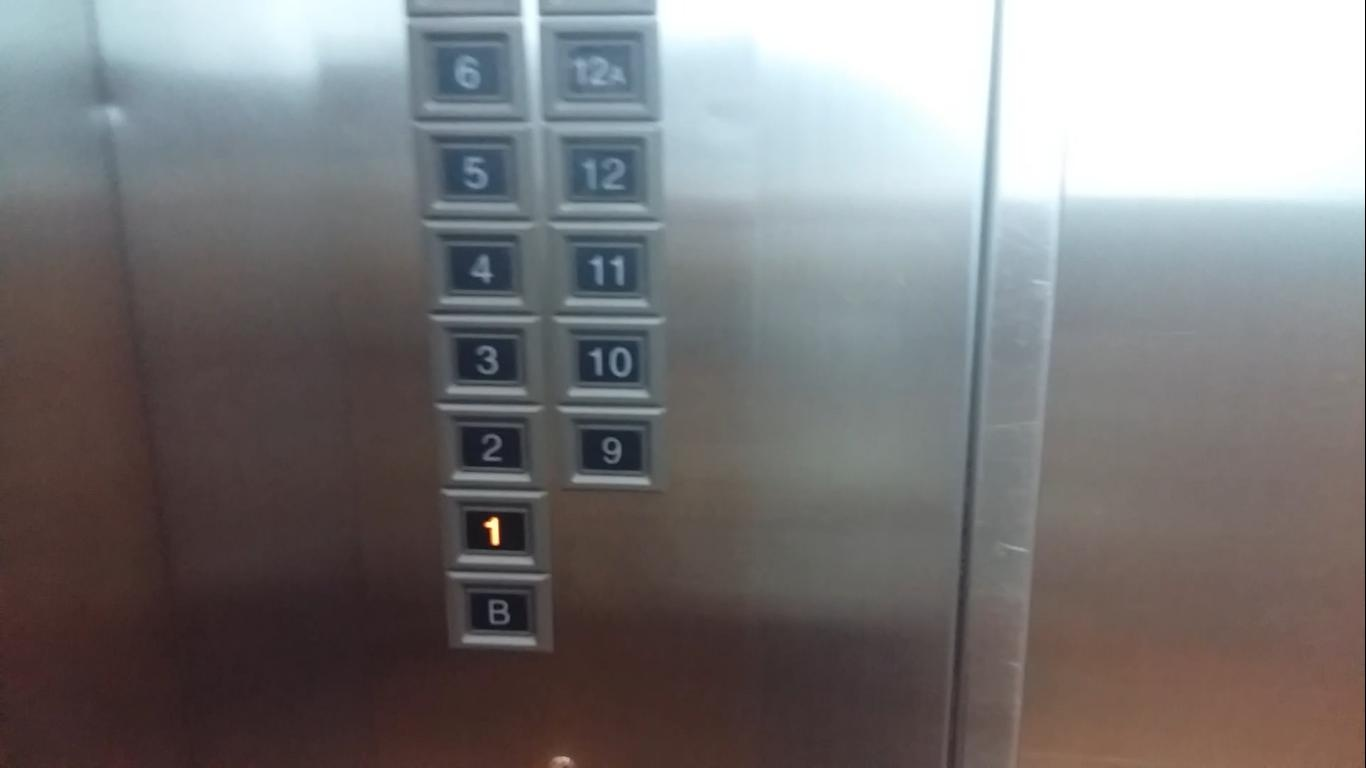1: (438, 484, 551, 576)
10: (549, 313, 671, 406)
11: (541, 219, 670, 318)
12: (538, 117, 666, 227)
12A: (534, 16, 667, 115)
2: (436, 401, 546, 493)
3: (428, 310, 546, 407)
4: (424, 217, 544, 316)
5: (413, 120, 538, 223)
6: (404, 12, 530, 122)
9: (554, 400, 671, 497)
B: (443, 566, 559, 655)
